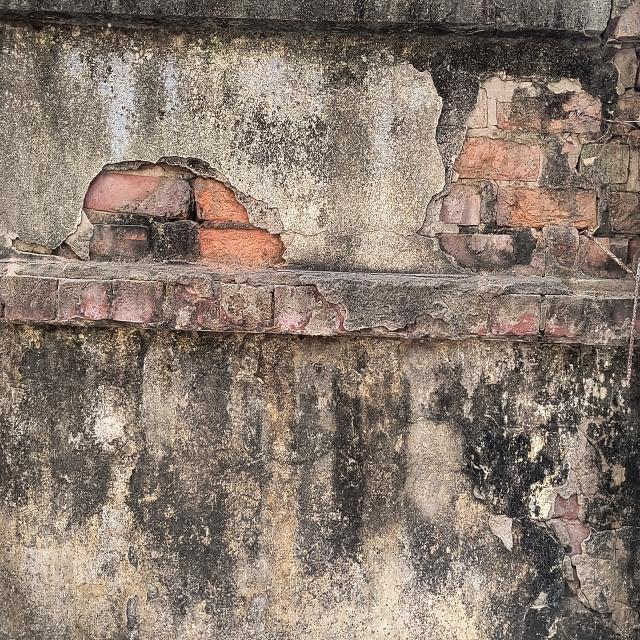peeling: (423, 0, 640, 277), (1, 263, 637, 350), (12, 157, 290, 270), (531, 470, 594, 554)
stain_mould: (0, 326, 640, 640), (0, 0, 640, 283)
